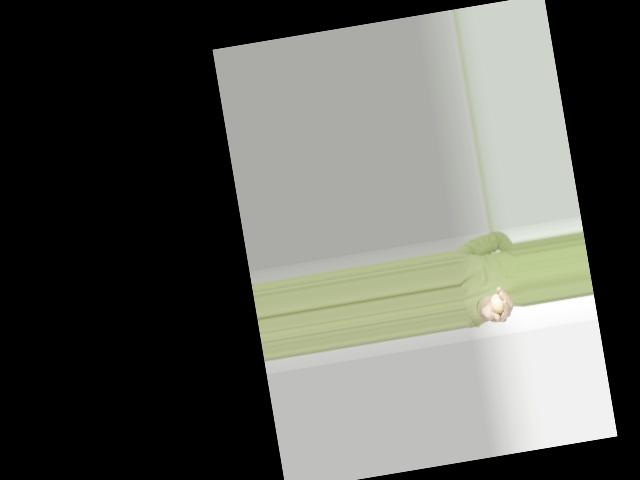egg: (489, 292, 504, 314)
